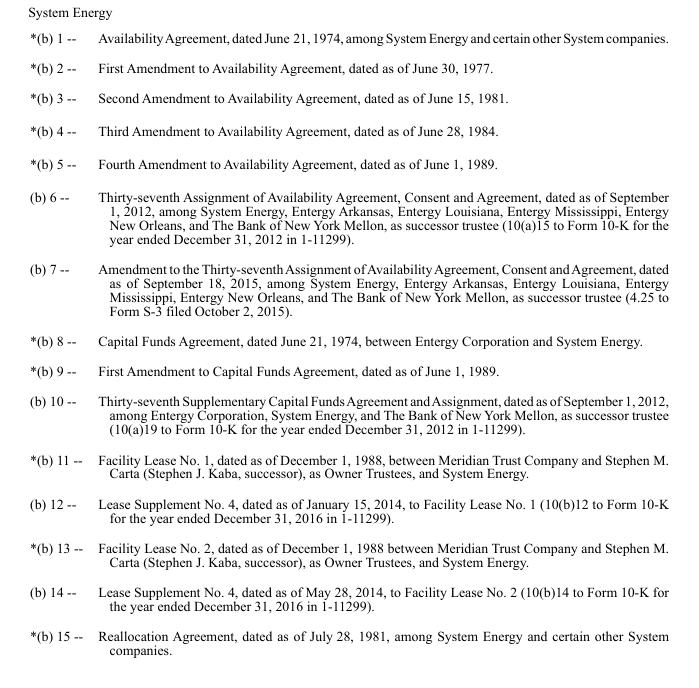table: (29, 29, 667, 657)
table column: (89, 29, 667, 657), (29, 29, 89, 657)
table row: (29, 179, 667, 253), (29, 253, 667, 324), (29, 385, 667, 443), (29, 487, 667, 532), (29, 443, 667, 487), (29, 532, 667, 576), (29, 576, 667, 620), (29, 620, 667, 657), (29, 146, 667, 179), (29, 82, 667, 114), (29, 114, 667, 146), (29, 324, 667, 355), (29, 52, 667, 82), (29, 355, 667, 385), (29, 29, 667, 52)
